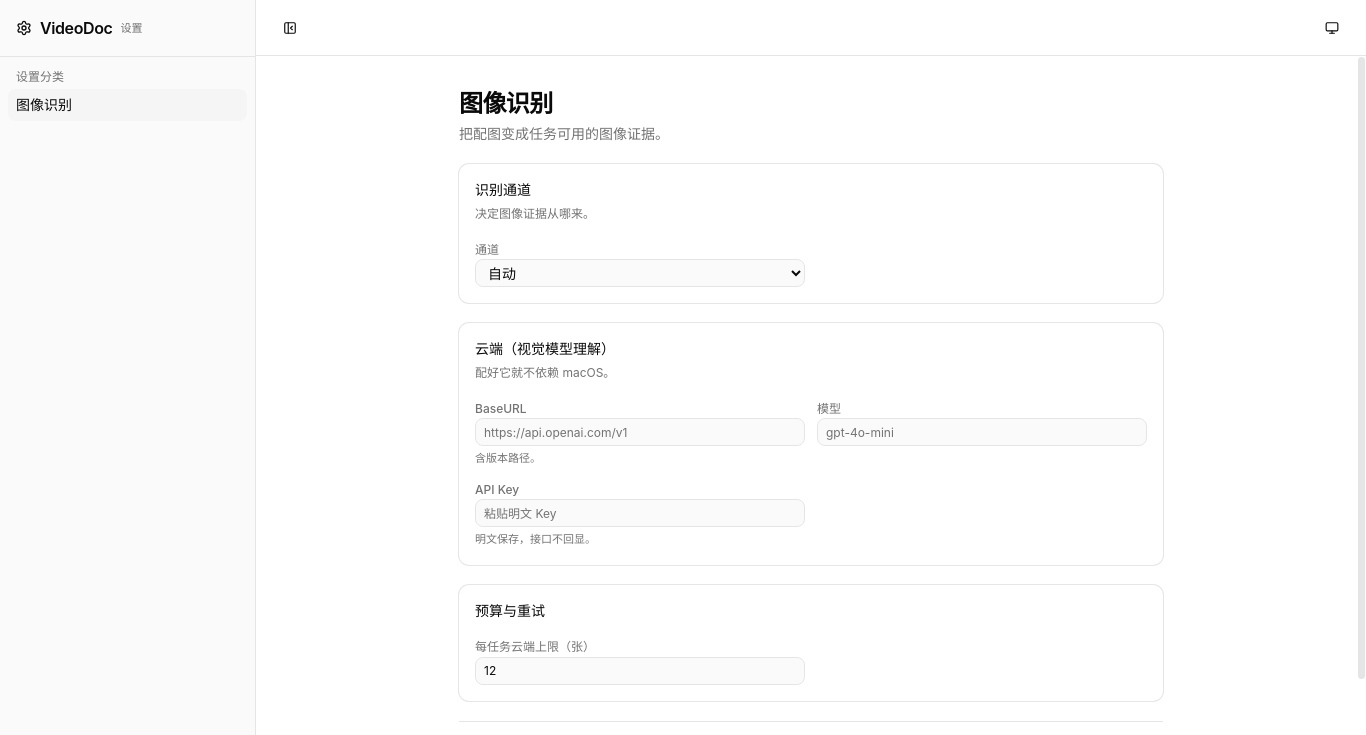
Test: 设置页（左分类 / 右设置项） › 测试连接走后端探测并展示两条通道
Expected: the heading "图像识别" is shown, [459,89,553,118]
In the field labelled "BaseURL": (640, 432) [475,418,805,446], type "http://h/v1"
(page scrolled)
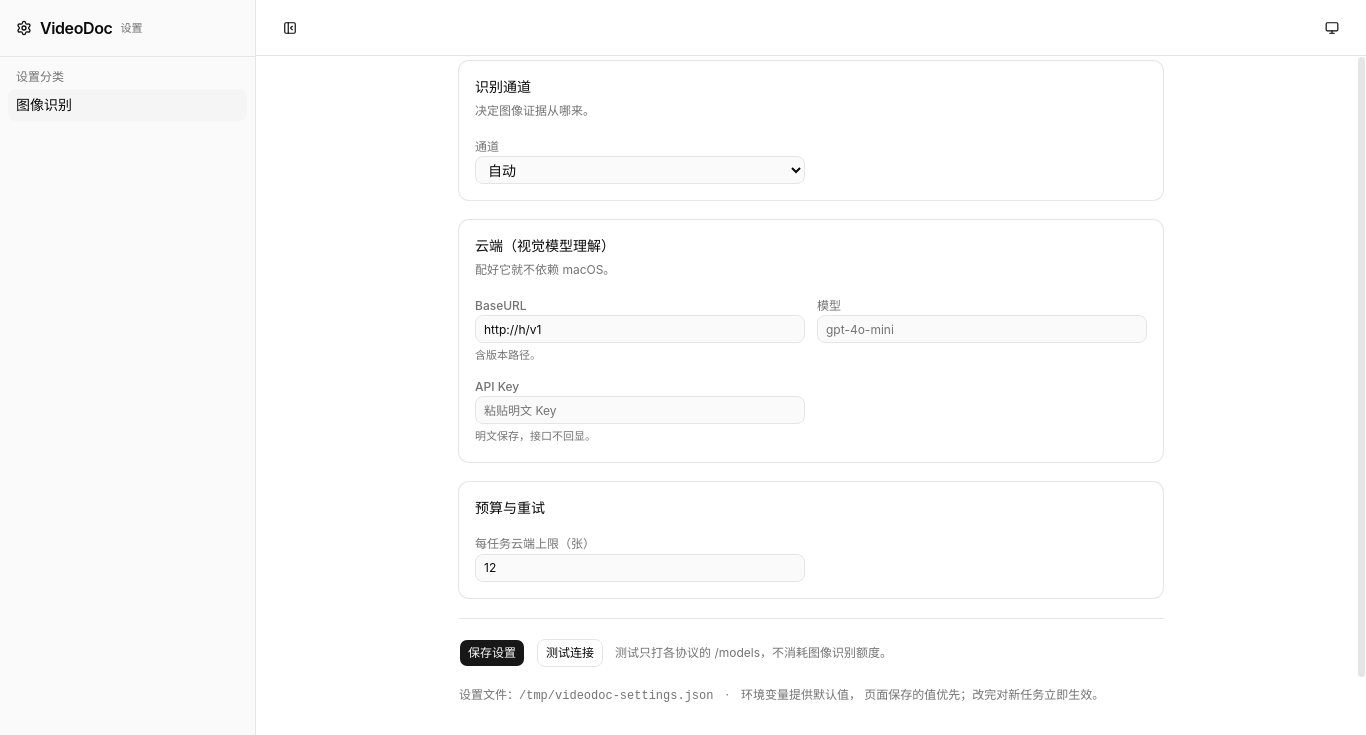
Click the button "测试连接": (570, 653) [537,639,603,667]
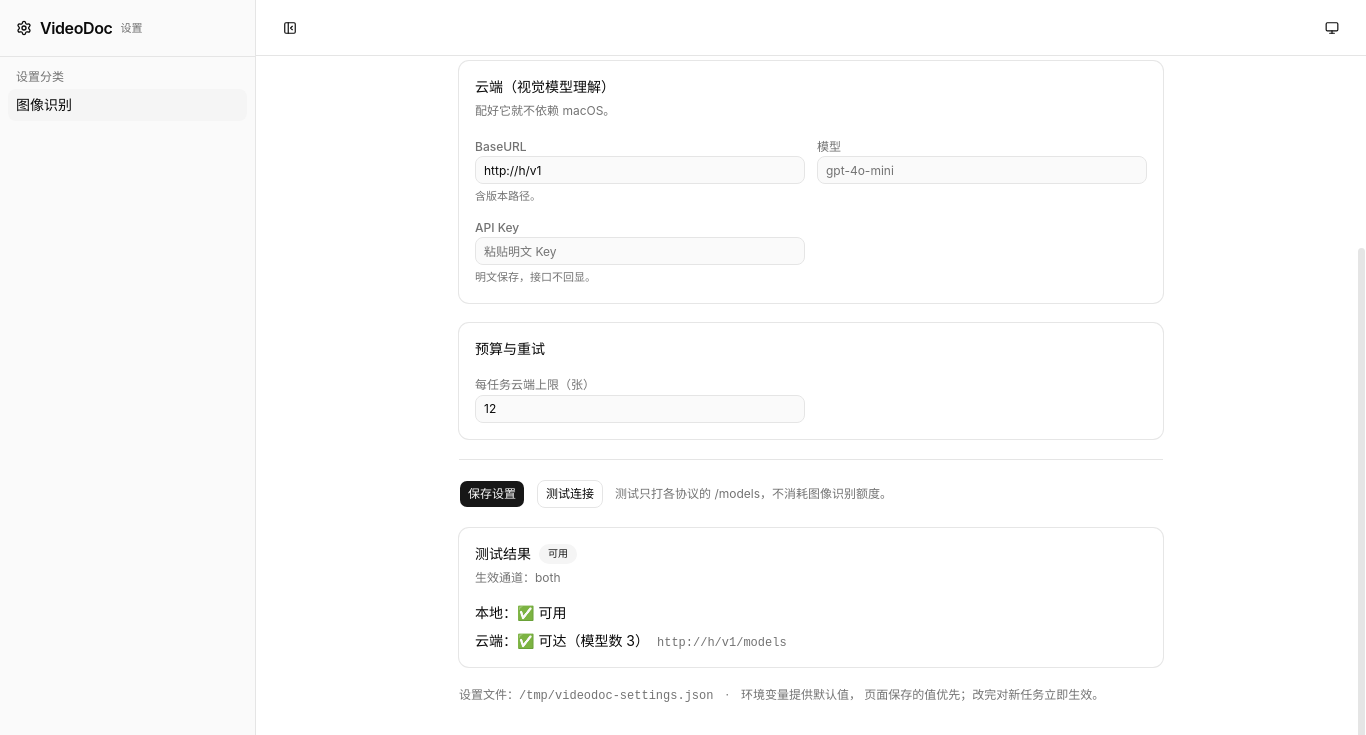
Expected: the icon "可用" is shown, [539,544,577,564]
Expected: the text "http://h/v1/models" is shown, [657,636,787,650]
